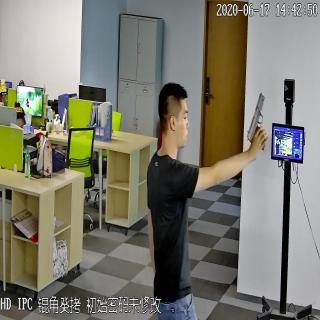gun: (242, 89, 268, 152)
